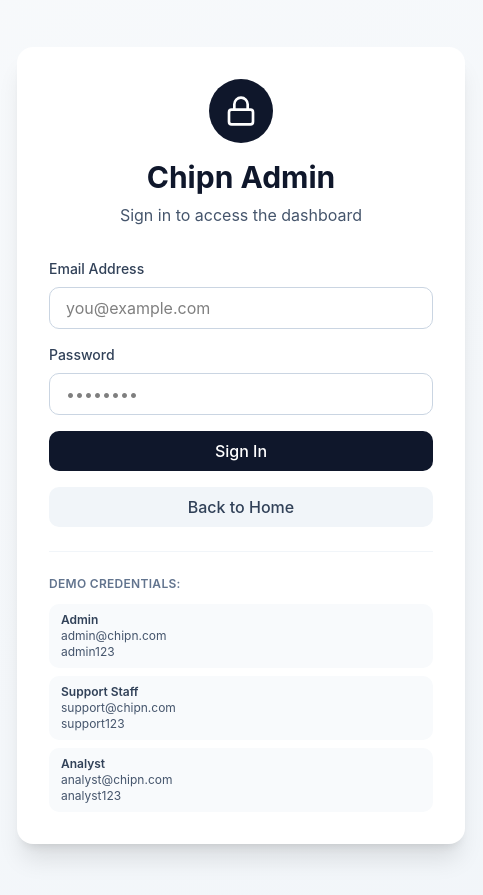
Test: AdminLoginPage › shows error message on login failure
Type "admin@chipn.com" into the field with placeholder "you@example.com".
click(241, 308); type("admin@chipn.com")  # box [49,286,433,328]
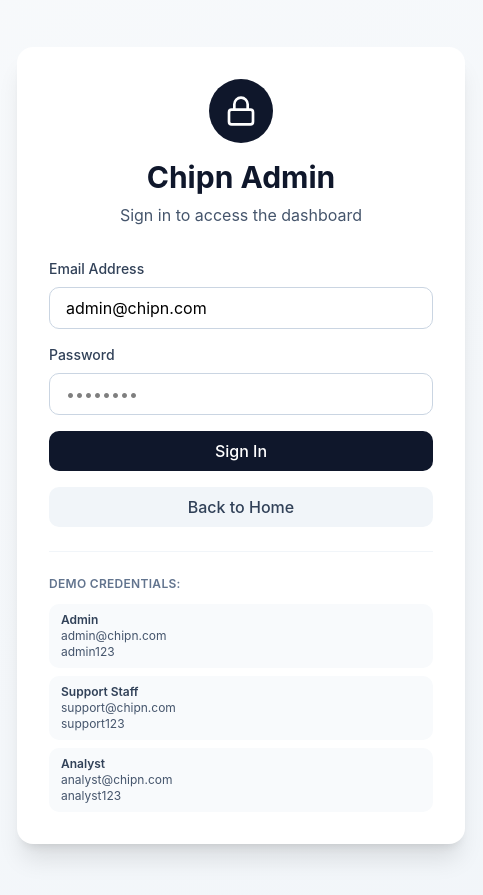
Type "wrong" into the password field with placeholder "••••••••".
click(241, 394); type("wrong")  # box [49,372,433,414]
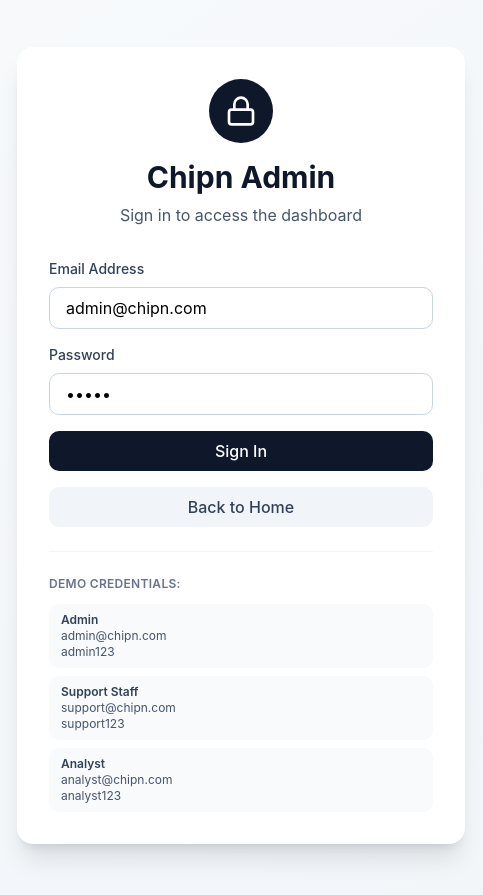
Click the button "Sign In".
click(241, 450)  # box [49,430,433,470]
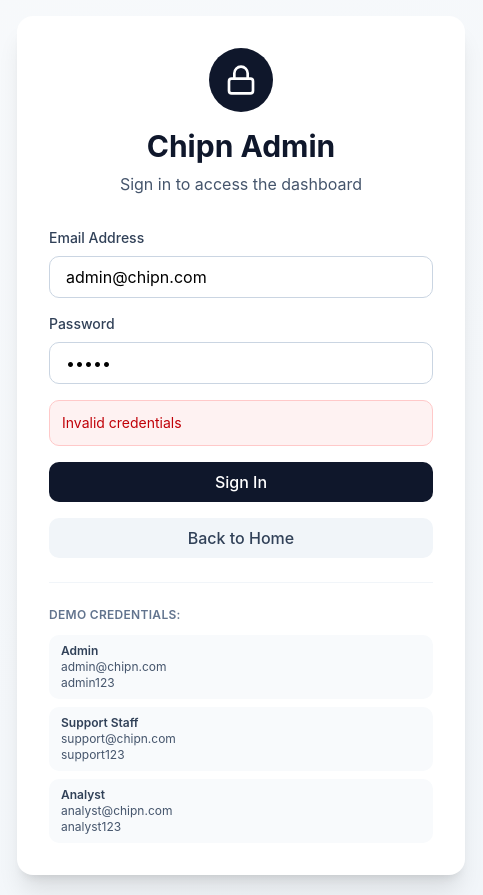
Check: the text "Invalid credentials" is shown, box [62,414,182,430]
